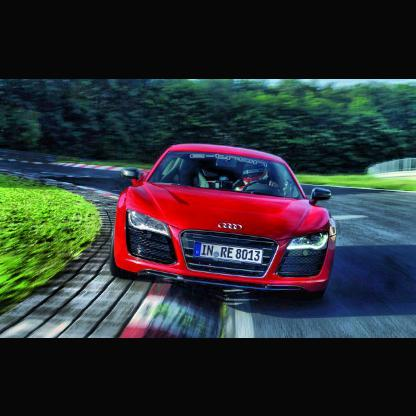Audi R8 Coupe 2012: (110, 143, 338, 308)
